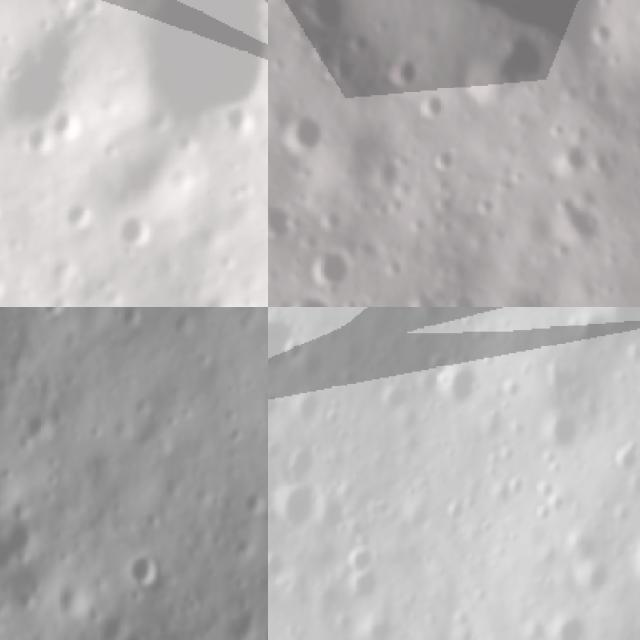crater: (135, 0, 268, 136), (0, 0, 87, 134), (448, 27, 548, 109), (272, 105, 330, 159), (366, 40, 426, 91), (274, 478, 322, 536), (268, 309, 305, 382), (290, 0, 359, 39), (305, 244, 354, 298), (314, 482, 359, 536), (540, 401, 585, 453), (446, 357, 480, 417), (408, 83, 451, 124), (118, 211, 155, 258), (356, 604, 404, 640), (282, 439, 319, 481), (349, 562, 387, 602), (268, 197, 297, 249), (64, 194, 95, 242), (222, 102, 260, 140), (130, 548, 162, 591), (546, 611, 591, 640), (277, 287, 340, 307), (427, 144, 462, 179), (17, 124, 51, 160), (341, 540, 377, 574), (614, 431, 640, 476), (47, 111, 84, 142), (583, 18, 619, 49), (402, 282, 443, 307), (284, 327, 310, 362), (443, 287, 483, 307), (36, 307, 64, 331), (79, 0, 105, 20)
